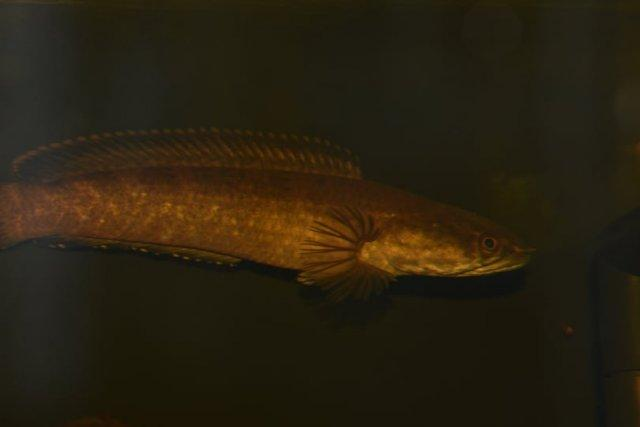Mulut: (446, 243, 558, 286)
Sirip Anal: (40, 230, 236, 274)
Sirip Dada: (288, 195, 399, 319)
Sirip Punggung: (14, 125, 370, 183)
